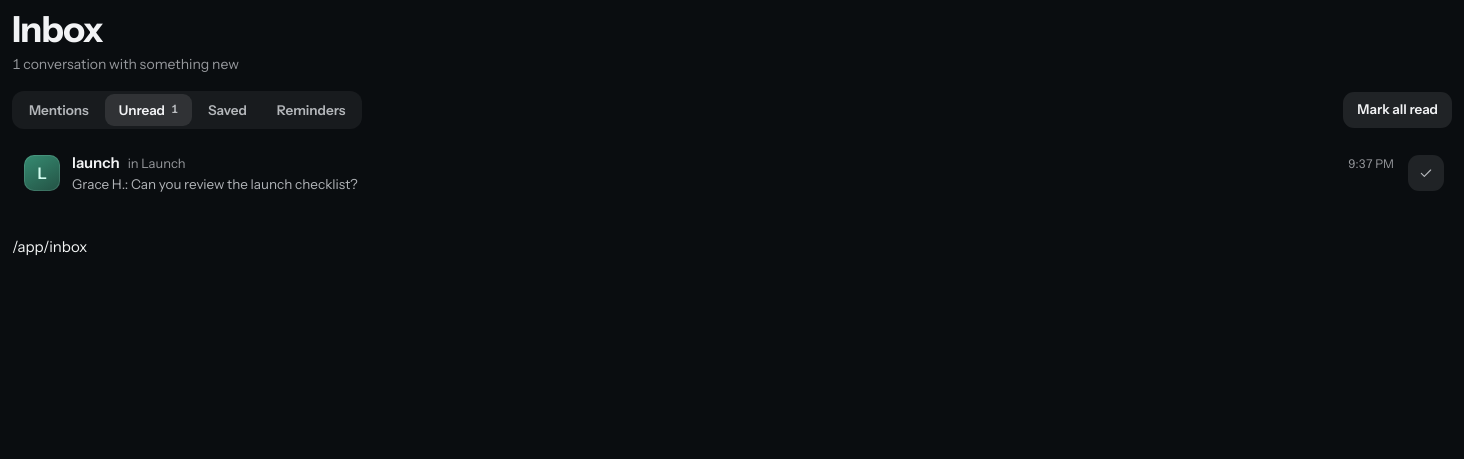
it: InboxPage › a mention tab with none says so; once you pick a tab it stays where you put it
The image size is (1464, 459).
Click the tab "Mentions". click: (59, 110)
box: left=15, top=94, right=103, bottom=126
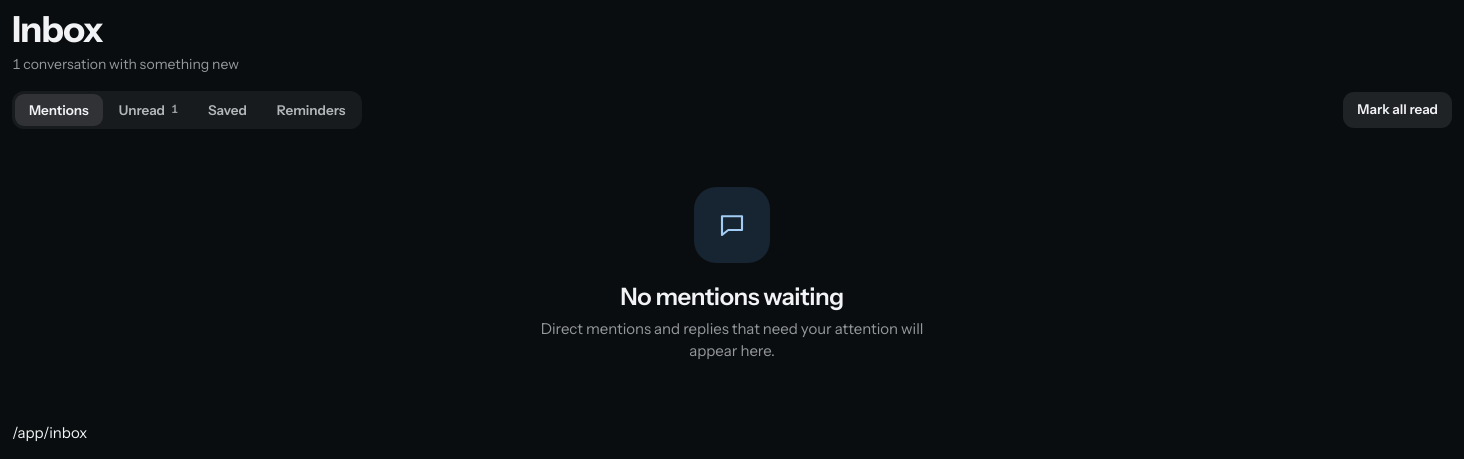
Result: the heading "No mentions waiting" is shown at left=620, top=283, right=844, bottom=312
